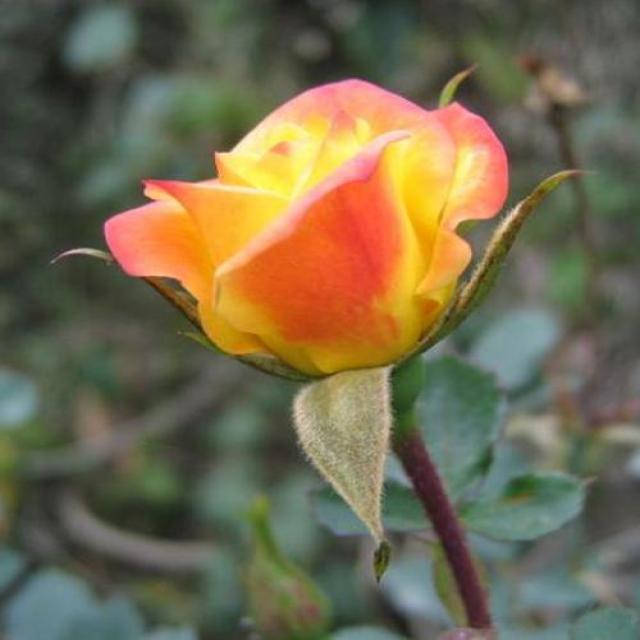rose: (60, 44, 583, 420)
